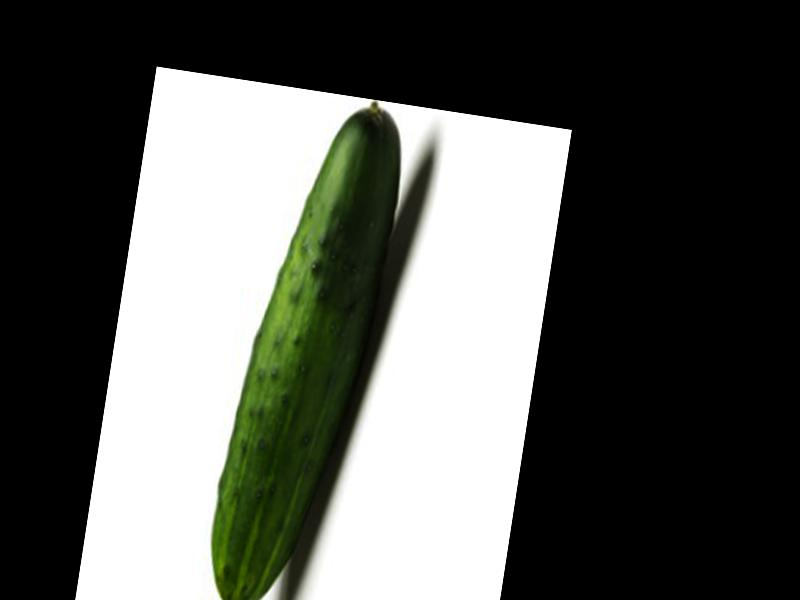Cucumber: (200, 87, 414, 600)
